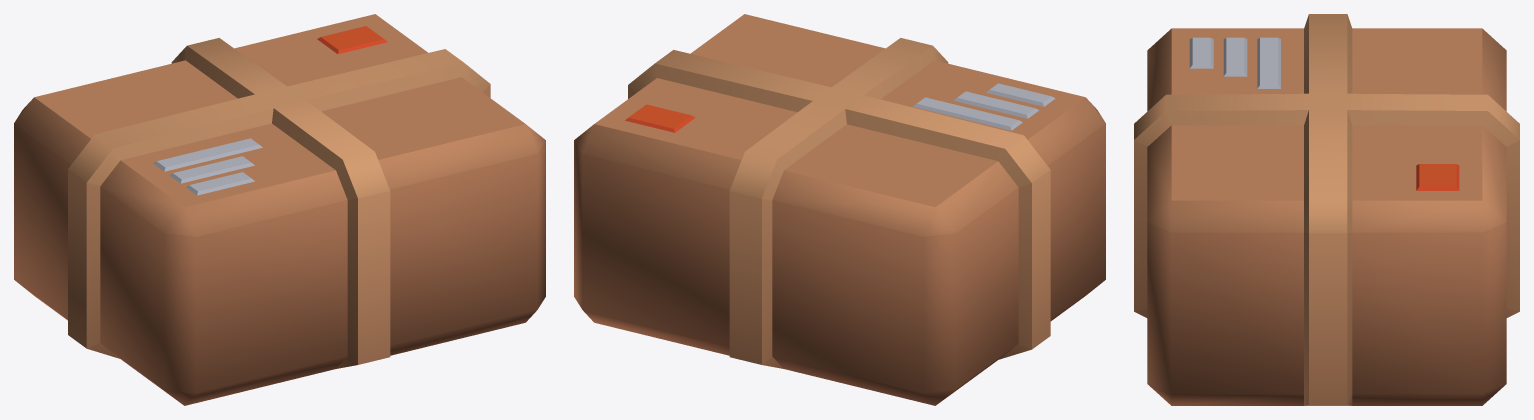
The model's file is package.fbx.
3 renders of one model, left to right at view 1: azimuth 30°, elevation 25°; view 2: azimuth 150°, elevation 25°; view 3: azimuth 270°, elevation 25°, orthographic. The views are drawn at different scales.
Visible parts, largest first — view 1: package; view 2: package; view 3: package.
Part boxes in pixels (x1,y1,x2,y2): package: [14, 14, 545, 405]; package: [574, 14, 1105, 405]; package: [1134, 14, 1519, 405].
Bounding box in the file's own units: 1 × 0.5 × 0.8.
